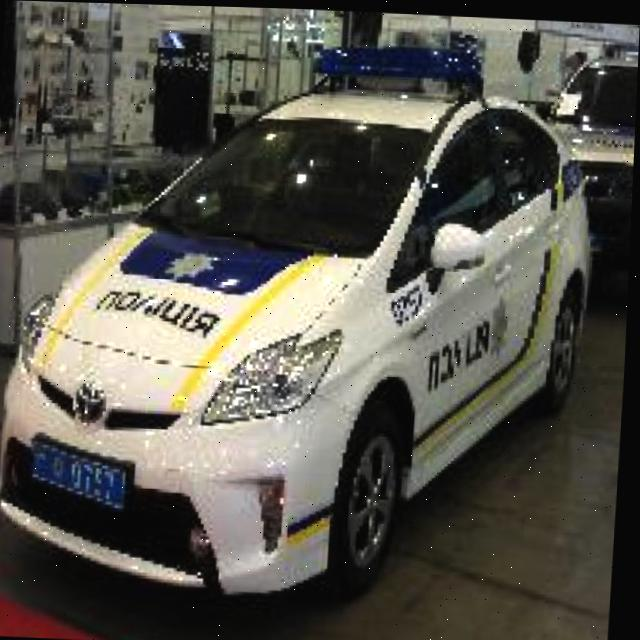emergency: (0, 30, 607, 617)
